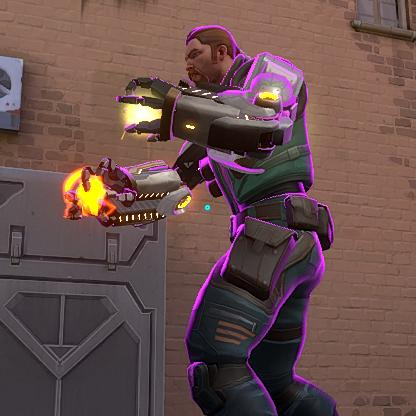enemyBody: (201, 94, 296, 218)
enemyHead: (186, 34, 234, 71)
